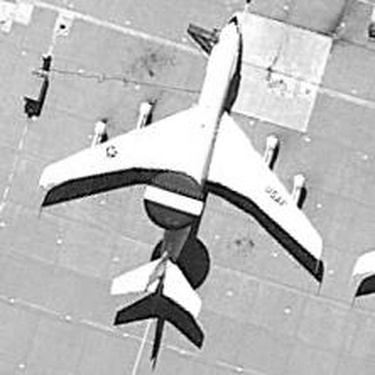airplane: (5, 15, 340, 347), (344, 233, 373, 292)
